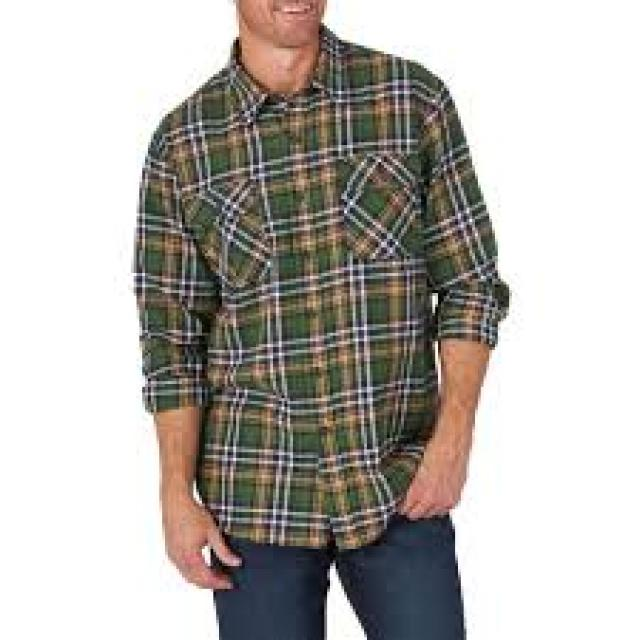plaid: (129, 44, 520, 554)
